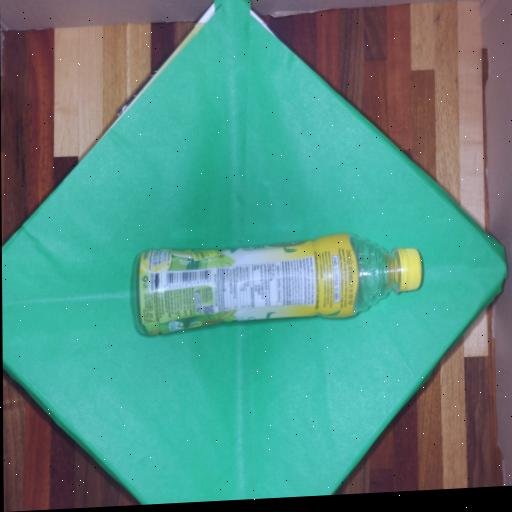bottle: (135, 234, 421, 334)
